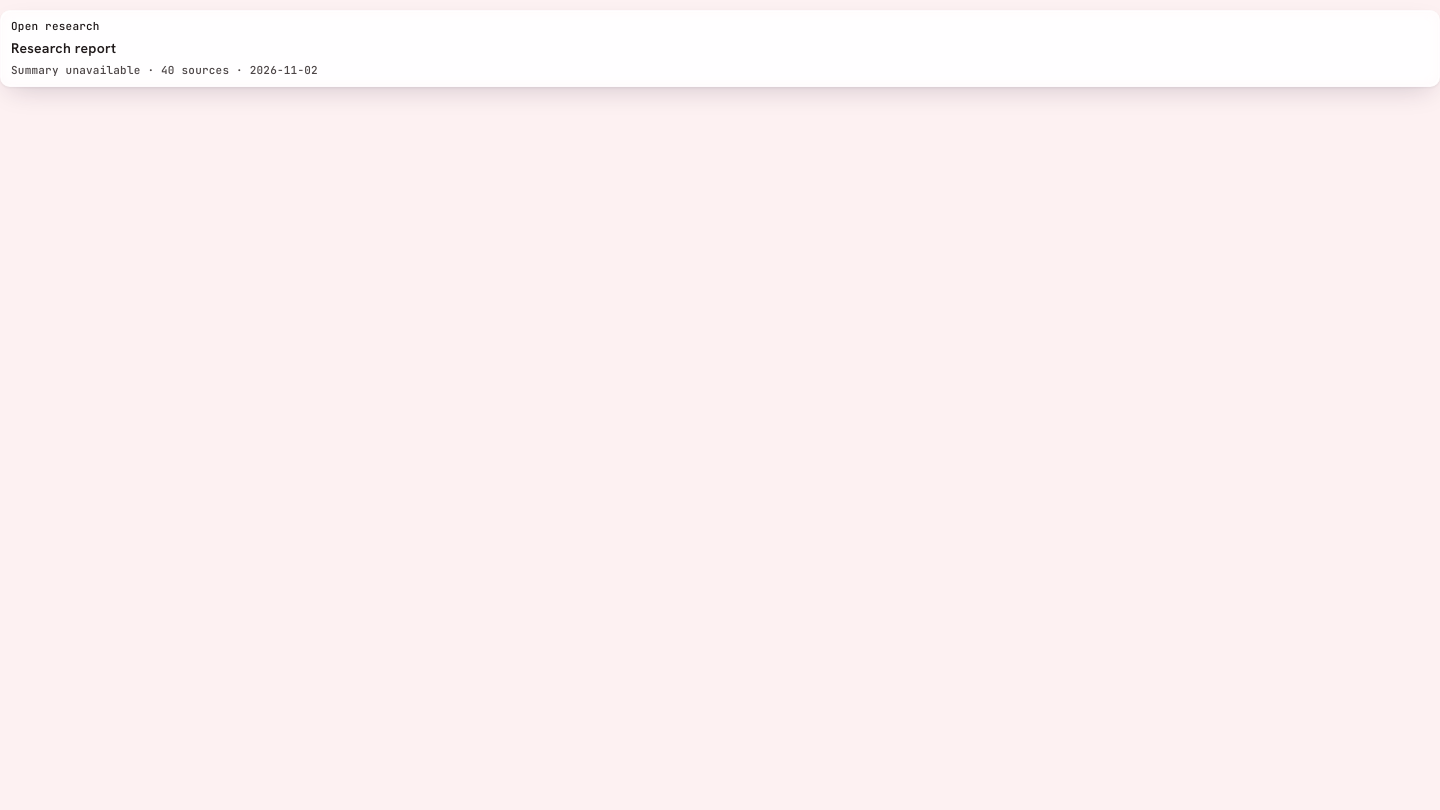
an unavailable news summary preserves the report without claiming zero stories or findings
The image size is (1440, 810).
Click the button with aria-label "Open research: Research report".
click(55, 26)  # box [0,10,1439,87]
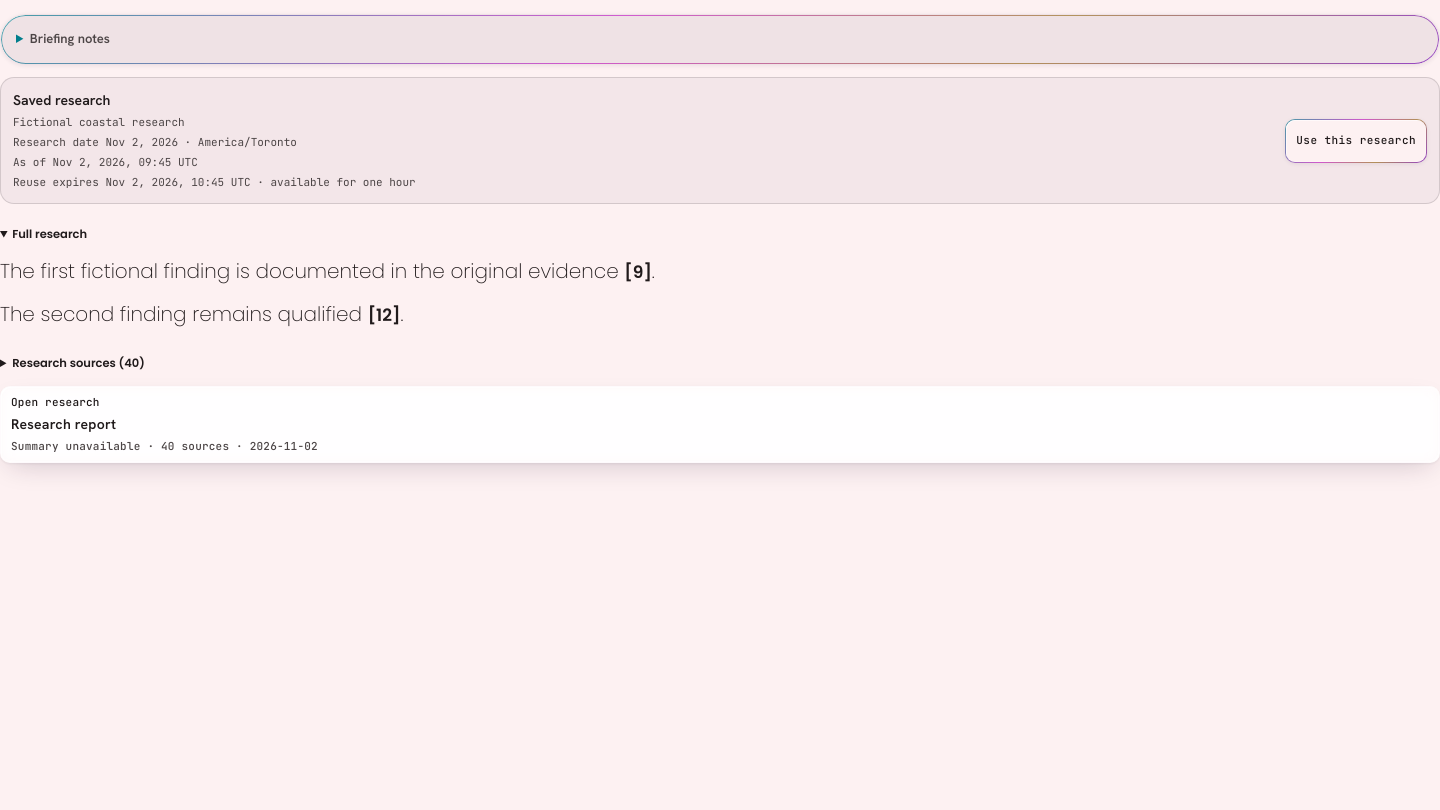
Check: the element named "Completed research" shows "The second finding remains qualified", box [0,300,368,328]
